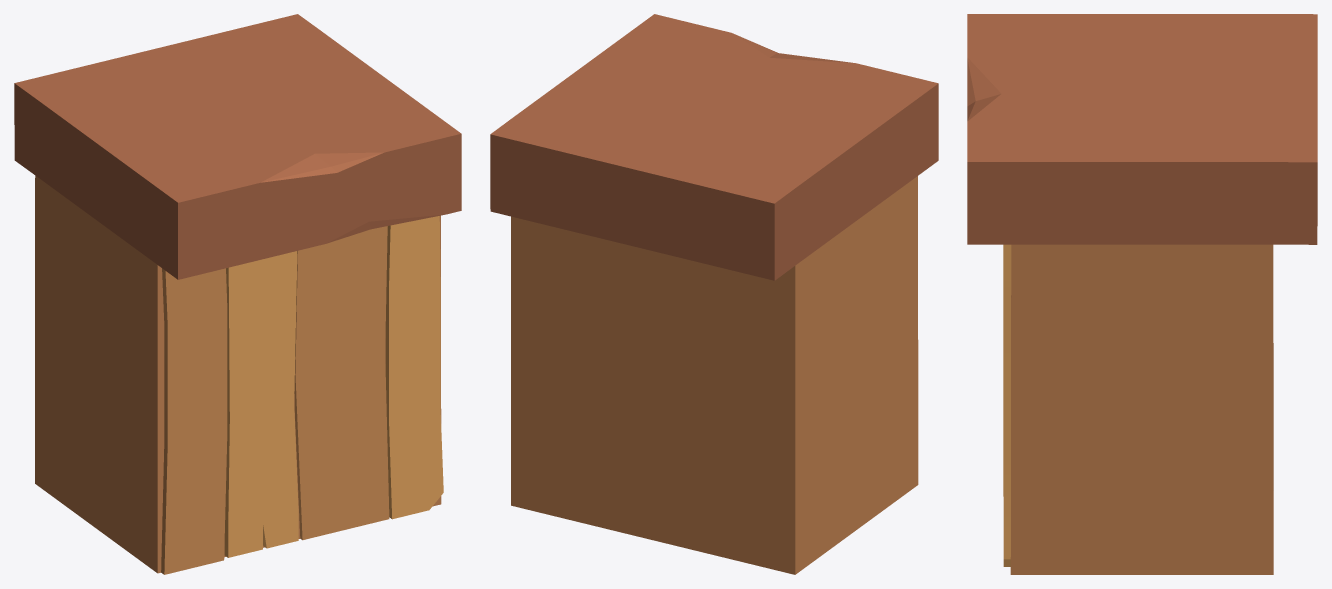
The model's file is bar_2.fbx.
3 renders of one model, left to right at view 1: azimuth 30°, elevation 25°; view 2: azimuth 150°, elevation 25°; view 3: azimuth 270°, elevation 25°, orthographic. The views are drawn at different scales.
Visible parts, largest first — view 1: pCube268; view 2: pCube268; view 3: pCube268.
Boxes of the visible parts, x1,y1,x2,y2 form: pCube268: (14, 14, 461, 574); pCube268: (490, 14, 938, 574); pCube268: (967, 14, 1317, 574).
Size of the model in its own units: 1 by 1.3 by 1.
